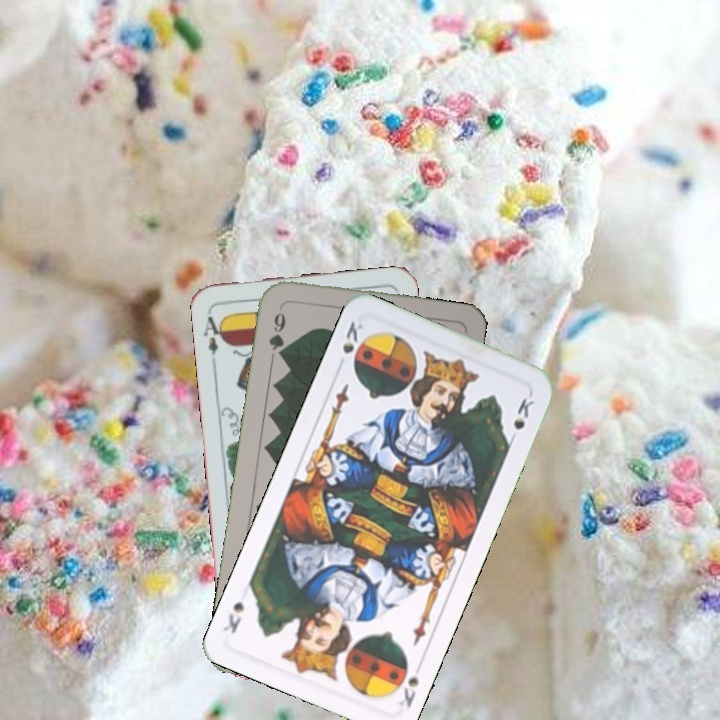EA: (200, 307, 228, 358)
G9: (265, 308, 289, 361)
SK: (394, 657, 426, 711), (338, 317, 366, 356)
